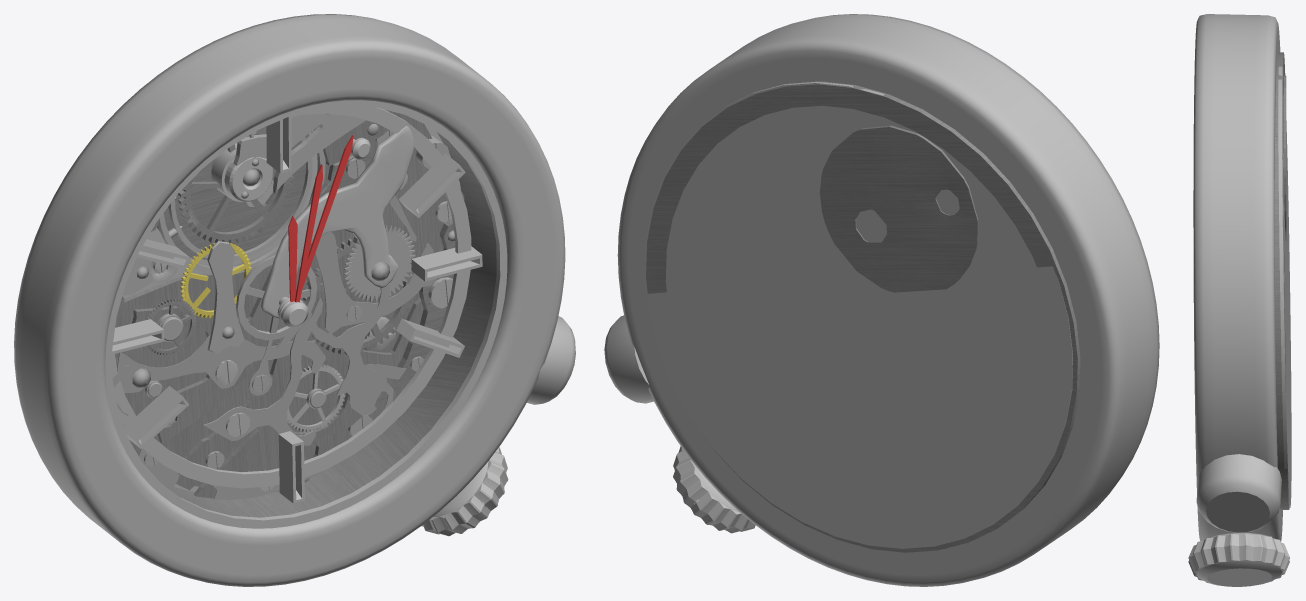
File: newgltbfromblender.glb
The picture shows the model from 3 angles, left to right: view 1: azimuth 30°, elevation 25°; view 2: azimuth 150°, elevation 25°; view 3: azimuth 270°, elevation 25°; orthographic projection. The views are drawn at different scales.
Visible parts, largest first — view 1: WatchRimT, Underparts, rim, Switches, LOGO, Top, ScrewzHierarchy, part2, Cogs, DiscCog, par3, ScrewzHierarchy2 (+10 smaller); view 2: WatchRimT, Underparts; view 3: WatchRimT, Underparts.
Boxes of the visible parts, x1,y1,x2,y2 form: WatchRimT: (14, 14, 575, 586); Underparts: (115, 109, 496, 517); rim: (105, 100, 507, 528); Switches: (112, 195, 436, 499); LOGO: (260, 126, 414, 318); Top: (122, 241, 244, 353); ScrewzHierarchy: (144, 130, 448, 469); part2: (233, 113, 365, 190); Cogs: (178, 126, 294, 243); DiscCog: (344, 225, 415, 301); par3: (211, 143, 273, 201); ScrewzHierarchy2: (153, 113, 452, 491); WatchRimT: (604, 14, 1159, 586); Underparts: (646, 81, 1080, 552); WatchRimT: (1188, 14, 1291, 586); Underparts: (1274, 52, 1289, 509).
Bounding box in the file's own units: 6.45 × 6.17 × 1.19.
Materials: 11 (2 with a texture image).
